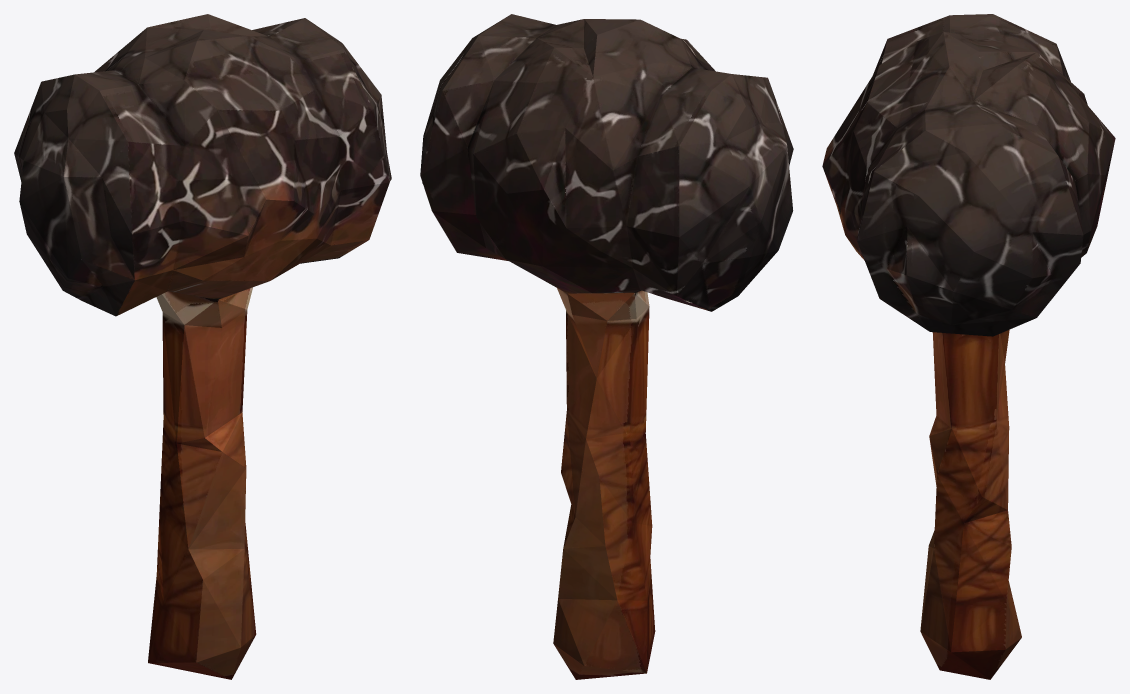
The model's file is rock_mace_weapon.glb.
3 views of the same model, side by side, from view 1: azimuth 30°, elevation 25°; view 2: azimuth 150°, elevation 25°; view 3: azimuth 270°, elevation 25° (orthographic). The views are drawn at different scales.
Visible parts, largest first — view 1: TexturedMesh_.obj; view 2: TexturedMesh_.obj; view 3: TexturedMesh_.obj.
Part boxes in pixels (bbox=[...]): TexturedMesh_.obj: bbox=[14, 14, 391, 679]; TexturedMesh_.obj: bbox=[420, 14, 793, 679]; TexturedMesh_.obj: bbox=[822, 14, 1115, 679].
Bounding box in the file's own units: 1.08 × 1.97 × 0.833.
1 material, 1 textured.
